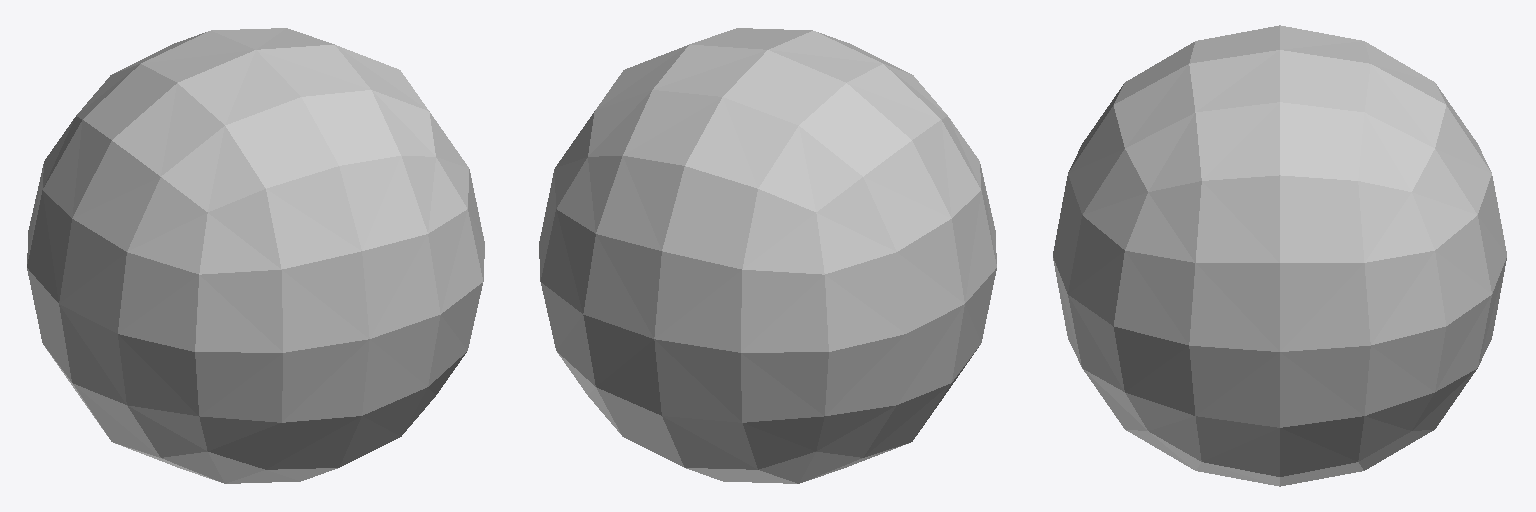
File: cube_subdiv_2.obj
The picture shows the model from 3 angles: view 1: azimuth 30°, elevation 25°; view 2: azimuth 150°, elevation 25°; view 3: azimuth 270°, elevation 25°; orthographic projection.
Visible parts, largest first — view 1: Cube_Cube.007; view 2: Cube_Cube.007; view 3: Cube_Cube.007.
Boxes of the visible parts, box(x1,y1,x2,y2) form: Cube_Cube.007: box(27, 28, 484, 483); Cube_Cube.007: box(539, 28, 996, 483); Cube_Cube.007: box(1053, 25, 1506, 486).
Size of the model in its own units: 1.76 by 1.76 by 1.76.